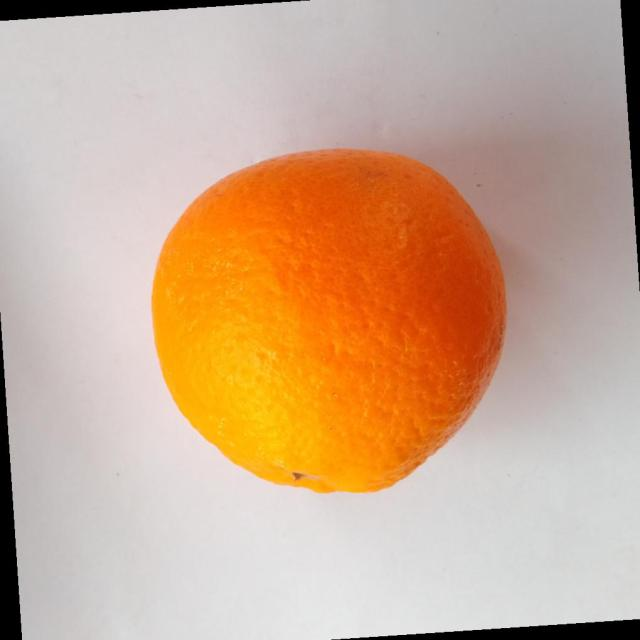fresh orange: (150, 146, 508, 494)
